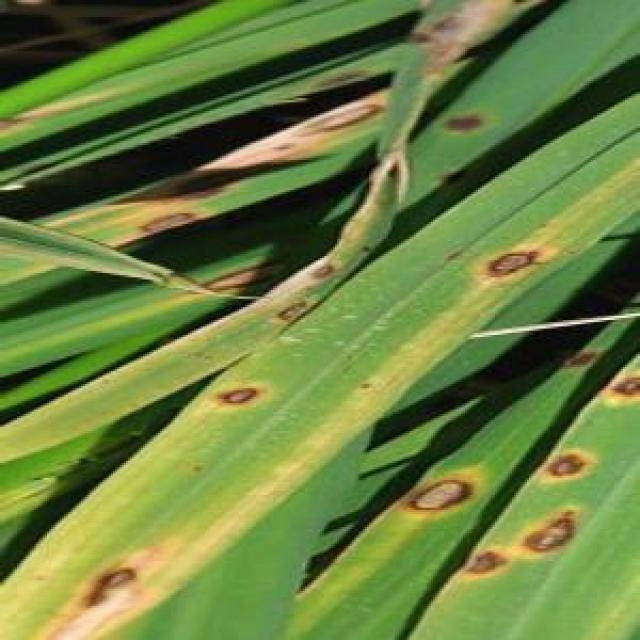brownspots: (78, 563, 150, 612), (518, 508, 578, 552), (456, 542, 520, 578), (414, 478, 476, 514), (132, 200, 201, 230), (204, 266, 282, 292), (305, 104, 382, 130), (482, 248, 540, 278), (546, 448, 591, 478), (442, 102, 482, 134), (554, 346, 600, 372), (220, 386, 269, 408), (610, 371, 640, 401), (312, 262, 344, 286)
